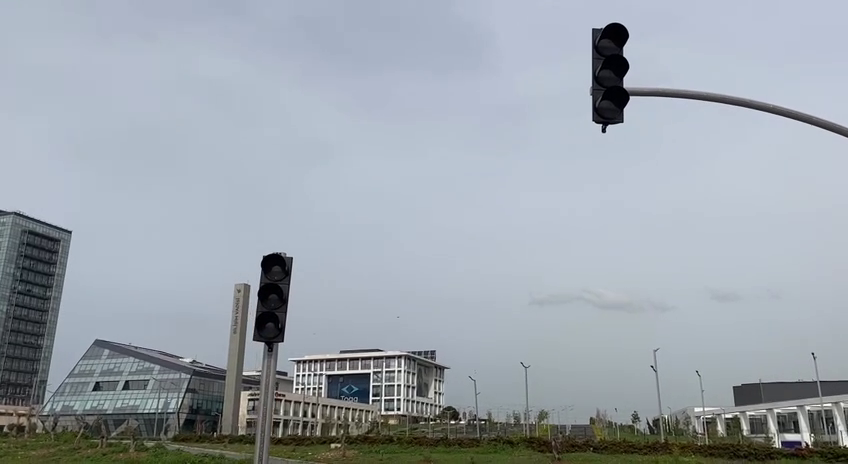trafficLight: (586, 19, 635, 134), (250, 248, 298, 351)
